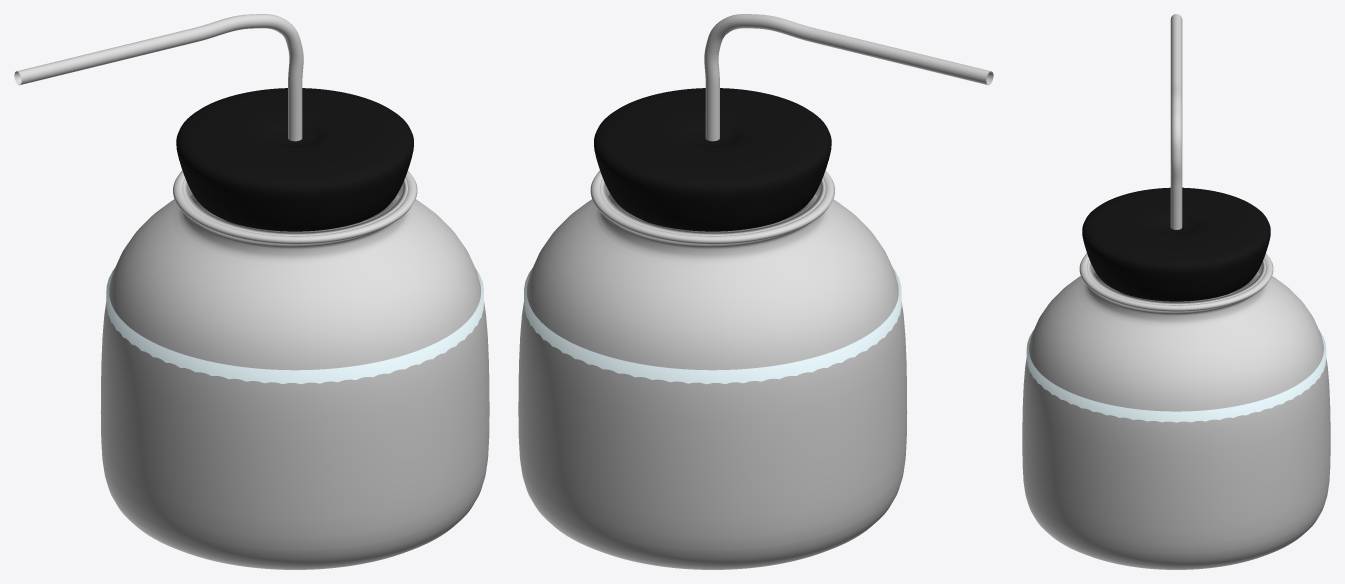
The model's file is WaterBottle.fbx.
The picture shows the model from 3 angles, left to right: view 1: azimuth 30°, elevation 25°; view 2: azimuth 150°, elevation 25°; view 3: azimuth 270°, elevation 25°; orthographic projection. The views are drawn at different scales.
Parts seen in each view (by area): view 1: Jar, Stopper, GlassTube, Water; view 2: Jar, Stopper, GlassTube, Water; view 3: Jar, Stopper, Water, GlassTube.
Part boxes in pixels (x1,y1,x2,y2): Jar: (100, 170, 489, 569); Stopper: (176, 88, 413, 231); GlassTube: (14, 14, 303, 141); Water: (106, 220, 483, 384); Jar: (518, 170, 907, 569); Stopper: (594, 88, 831, 231); GlassTube: (704, 14, 993, 141); Water: (524, 220, 901, 384); Jar: (1022, 253, 1330, 569); Stopper: (1082, 187, 1270, 301); Water: (1026, 293, 1326, 422); GlassTube: (1170, 14, 1182, 229).
Bounding box in the file's own units: 0.2009 × 0.2196 × 0.1518.
